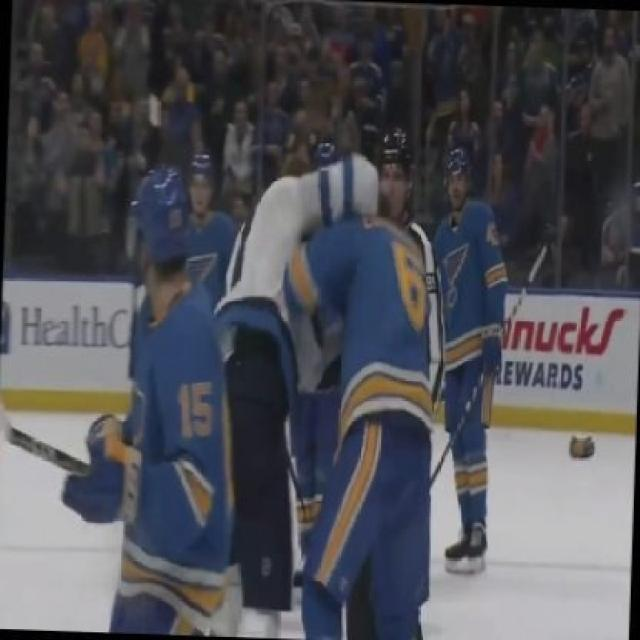fight: (208, 117, 440, 638)
non-fight: (71, 165, 233, 640), (424, 133, 514, 576)
